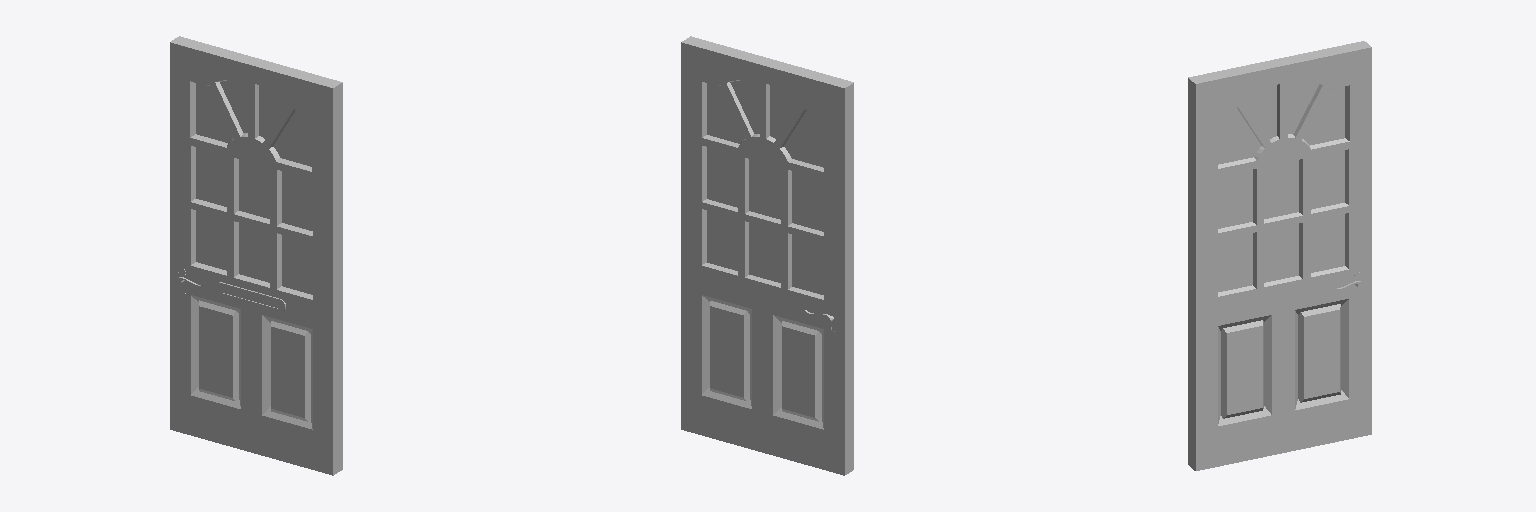
File: door_000008.obj
The picture shows the model from 3 angles: view 1: azimuth 30°, elevation 25°; view 2: azimuth 210°, elevation 25°; view 3: azimuth 270°, elevation 25°; orthographic projection.
Visible parts, largest first — view 1: Door.003; view 2: Door.003; view 3: Door.003.
Boxes of the visible parts, x1,y1,x2,y2 form: Door.003: [170, 36, 342, 475]; Door.003: [681, 36, 853, 475]; Door.003: [1188, 41, 1371, 470].
Size of the model in its own units: 0.3876 by 1.6 by 0.6918.